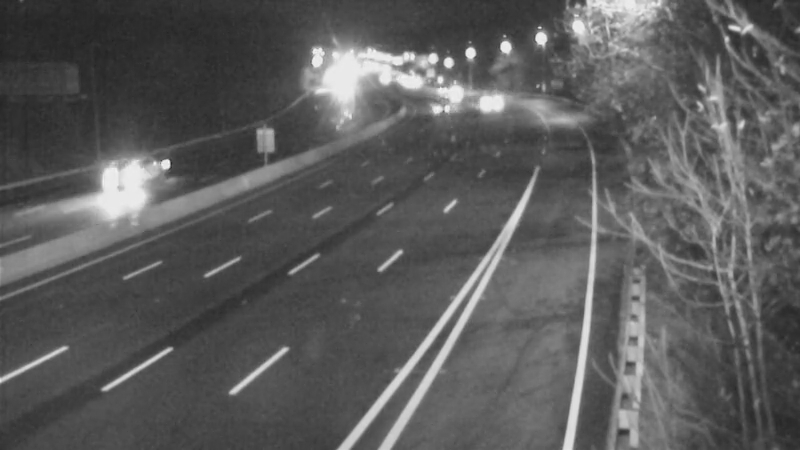vehicle: (85, 141, 165, 221), (424, 66, 474, 116), (457, 81, 507, 131), (418, 78, 468, 128)
